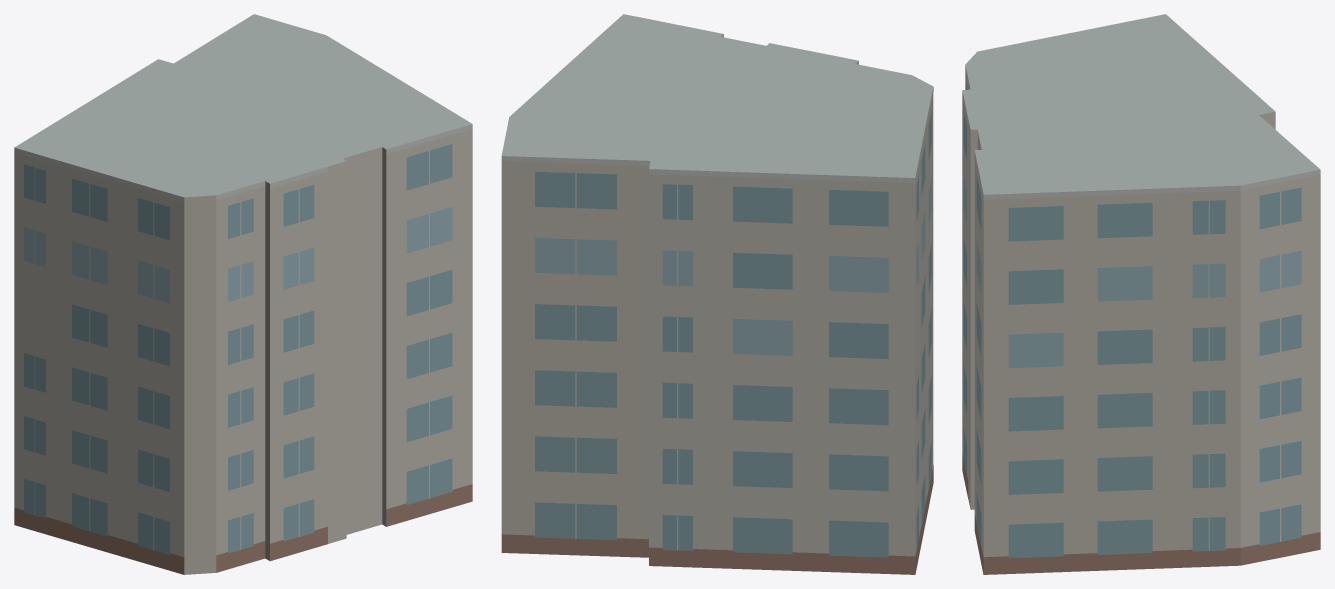
Rendered from survey-upis-32742539.glb.
3 views of the same model, side by side, from view 1: azimuth 30°, elevation 25°; view 2: azimuth 150°, elevation 25°; view 3: azimuth 270°, elevation 25° (orthographic). The views are drawn at different scales.
Visible parts, largest first — view 1: survey-upis-32742539.tmp; view 2: survey-upis-32742539.tmp; view 3: survey-upis-32742539.tmp.
Part boxes in pixels (box(x1,y1,x2,y2)): survey-upis-32742539.tmp: box(14, 14, 472, 574); survey-upis-32742539.tmp: box(501, 14, 933, 574); survey-upis-32742539.tmp: box(962, 14, 1320, 574).
Size of the model in its own units: 18.53 by 18.15 by 15.52.
